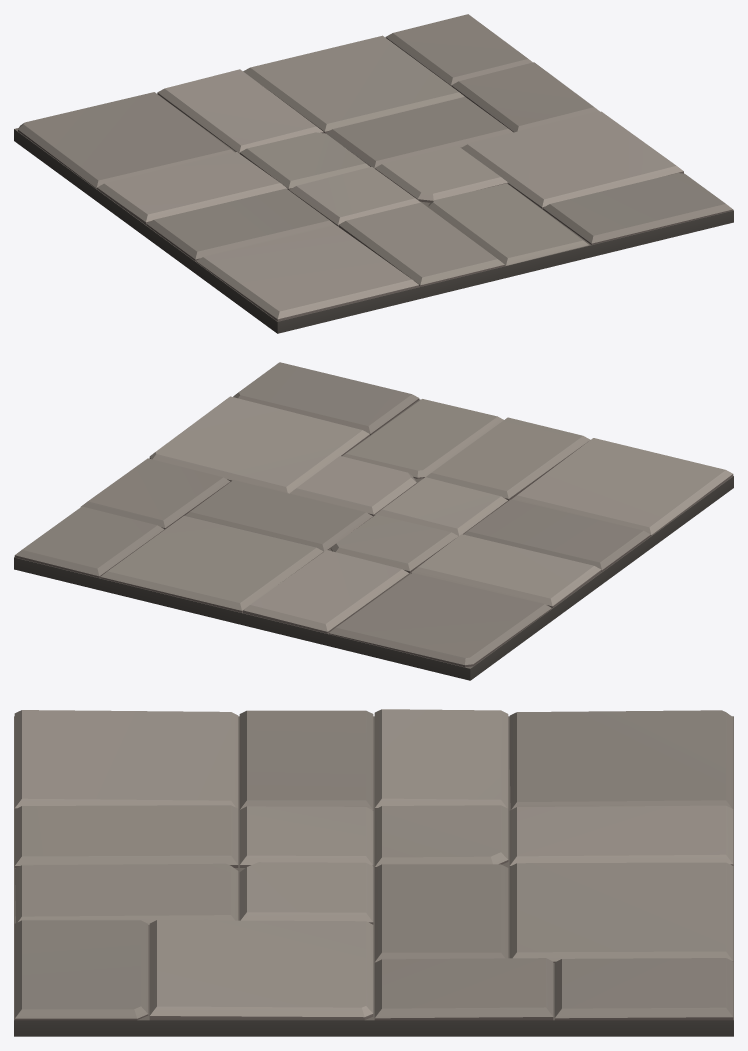
The model's file is floor_flagstones_large_B.glb.
3 renders of one model, top to bottom at view 1: azimuth 30°, elevation 25°; view 2: azimuth 150°, elevation 25°; view 3: azimuth 270°, elevation 25°, orthographic. The views are drawn at different scales.
Visible parts, largest first — view 1: Item; view 2: Item; view 3: Item.
Boxes of the visible parts, x1,y1,x2,y2 form: Item: (14, 14, 733, 333); Item: (14, 362, 733, 680); Item: (14, 709, 733, 1036).
Size of the model in its own units: 4 by 0.165 by 4.
1 material, 1 textured.
